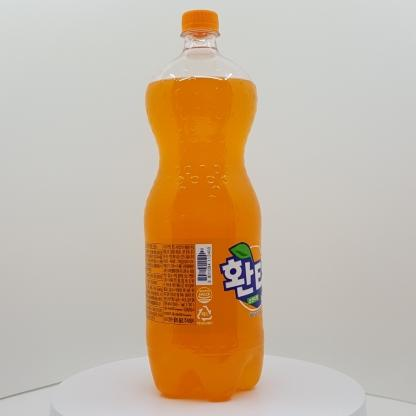-------1-5L: (144, 10, 265, 402)
